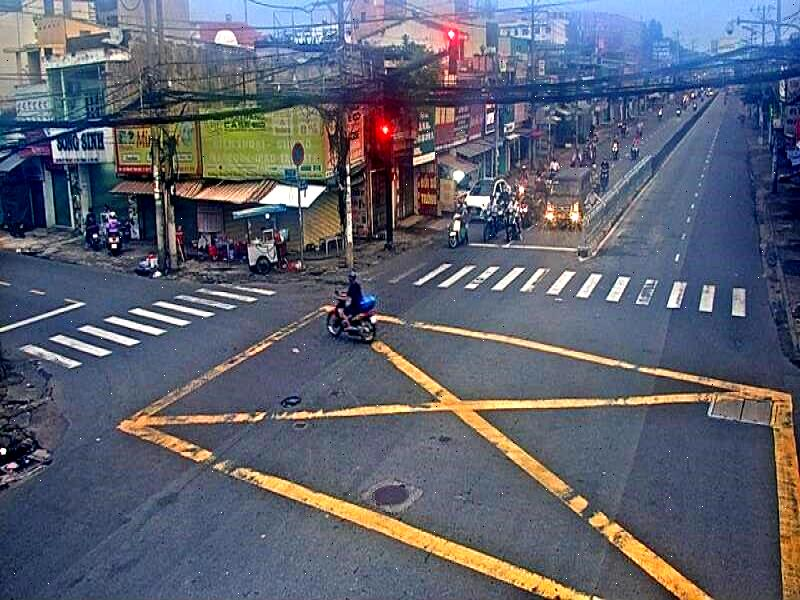motorcycle: (330, 292, 380, 346)
